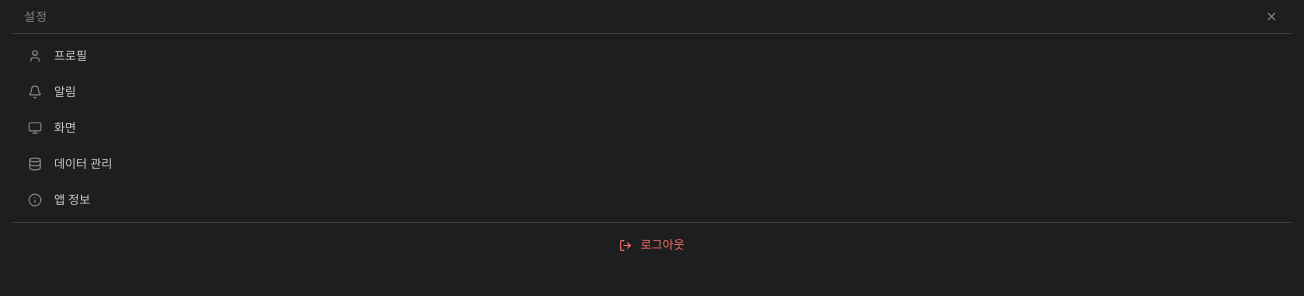
Test: handles an IPC rejection without leaving settings stuck checking
The image size is (1304, 296).
Click the button with class "lucide-info" at (72, 200), box [12, 182, 1292, 218]
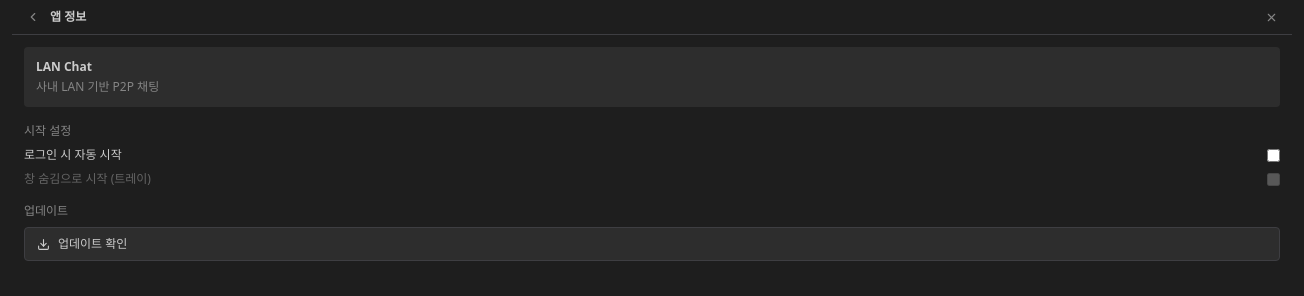
Click the button with class "lucide-download" at (93, 244), box [24, 227, 1280, 261]
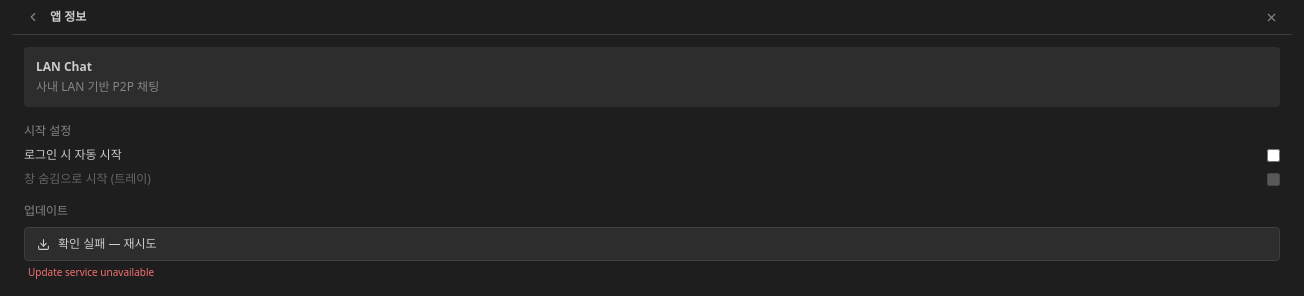
Check: the button with class "lucide-download" is enabled, box [24, 227, 1280, 261]
Check: the text "Update service unavailable" is shown, box [28, 265, 154, 279]
